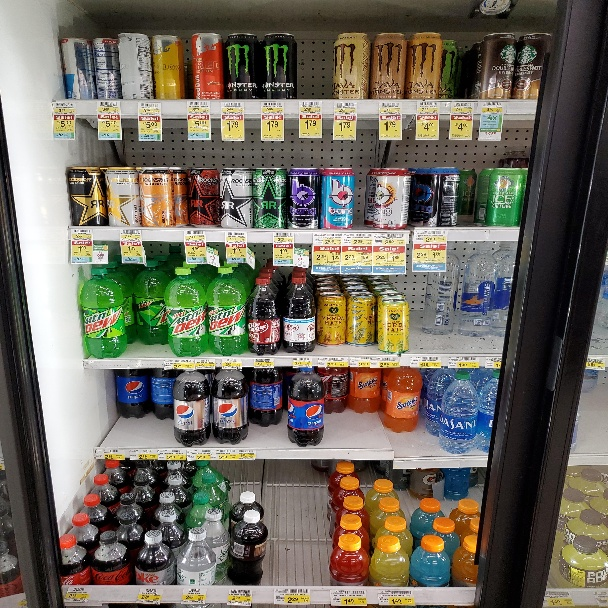All PRICE TAGS: (274, 587, 309, 604), (330, 591, 366, 605), (379, 590, 413, 604), (543, 592, 573, 606), (414, 230, 448, 242), (96, 447, 125, 460), (373, 233, 407, 244), (228, 588, 253, 602), (65, 587, 88, 602), (449, 356, 479, 367), (343, 233, 373, 244), (131, 448, 158, 460), (166, 358, 193, 370), (320, 356, 349, 367), (313, 233, 342, 244), (411, 357, 441, 367), (139, 588, 162, 601), (211, 449, 238, 460), (261, 101, 284, 113), (188, 101, 211, 113), (51, 101, 74, 113), (184, 588, 206, 600), (97, 101, 119, 113), (160, 450, 186, 460), (480, 101, 503, 112), (451, 101, 474, 112), (417, 101, 440, 112), (379, 101, 402, 112), (138, 102, 161, 113), (334, 101, 356, 112), (221, 101, 243, 112), (183, 230, 204, 241), (299, 101, 320, 112), (272, 233, 295, 243), (119, 230, 142, 240), (188, 449, 208, 460), (221, 358, 243, 368), (352, 356, 376, 365), (586, 357, 604, 369), (195, 358, 216, 368), (225, 232, 246, 242), (70, 229, 91, 239), (379, 356, 400, 365), (238, 449, 255, 460), (292, 357, 311, 366), (254, 358, 273, 367)
